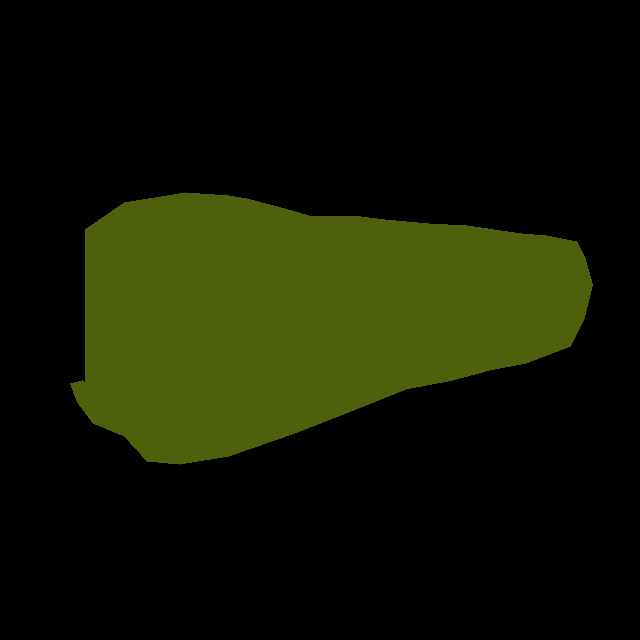Train: (70, 192, 593, 464)
